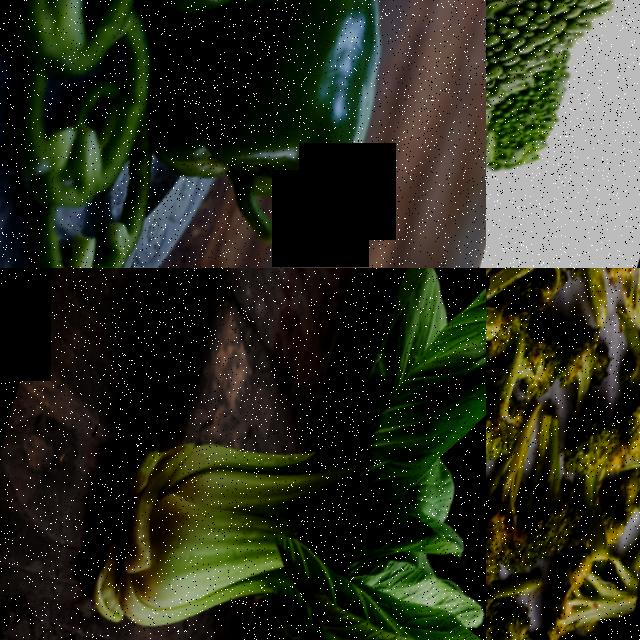bell pepper: (157, 33, 386, 255)
bok choy: (0, 268, 486, 640)
broccoli: (486, 413, 586, 604), (550, 384, 640, 545), (505, 268, 638, 322), (488, 607, 593, 640)
